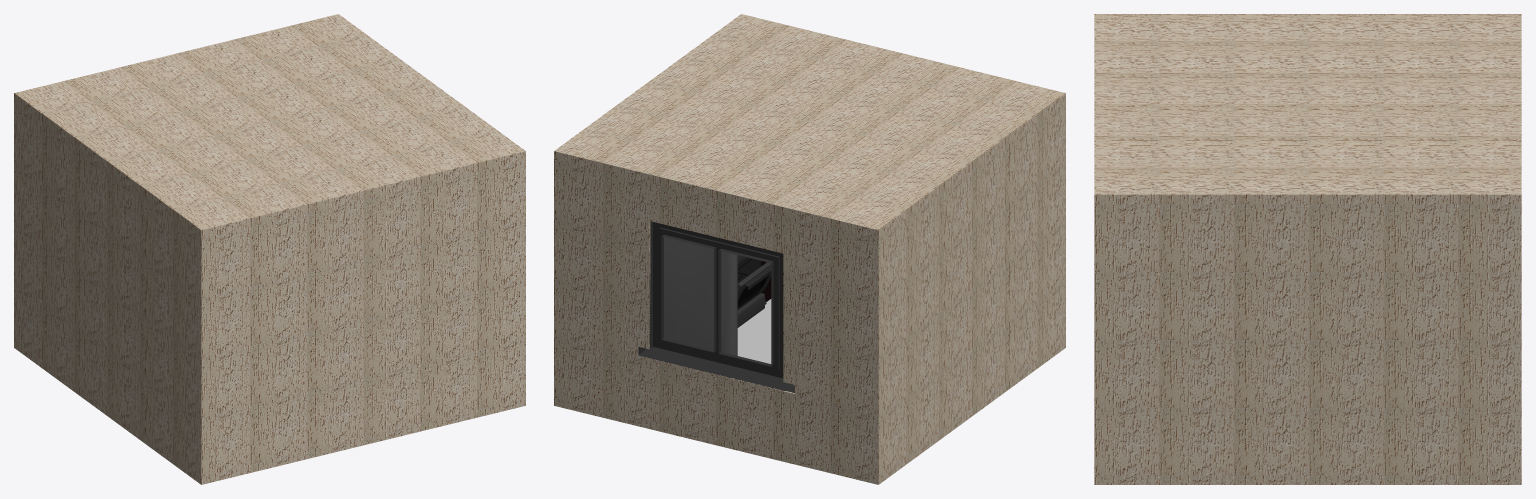
The model's file is кухня6.fbx.
3 renders of one model, left to right at view 1: azimuth 30°, elevation 25°; view 2: azimuth 150°, elevation 25°; view 3: azimuth 270°, elevation 25°, orthographic. The views are drawn at different scales.
Visible parts, largest first — view 1: Box001; view 2: Box001, Окно, Дверца, Пол, Дверь духовки, Box009; view 3: Box001.
Part boxes in pixels (box(x1,y1,x2,y2)): Box001: box(14, 14, 525, 484); Box001: box(554, 14, 1065, 484); Окно: box(638, 221, 794, 393); Дверца: box(664, 237, 737, 355); Пол: box(737, 299, 771, 363); Дверь духовки: box(737, 262, 771, 309); Box009: box(737, 255, 764, 327); Box001: box(1094, 14, 1521, 484).
Size of the model in its own units: 4000 by 4000 by 3008.
